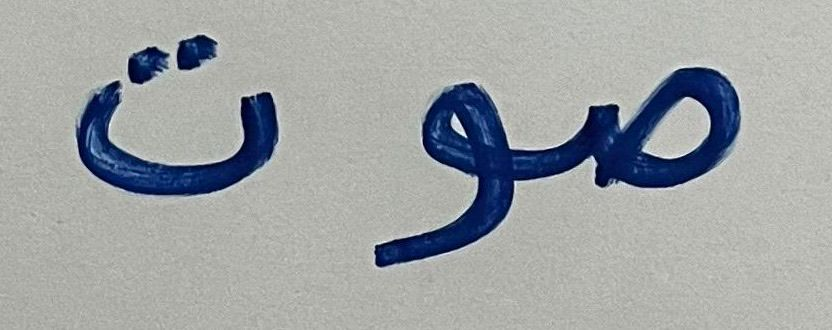sad: (546, 22, 778, 238)
teh: (52, 16, 316, 252)
waw: (329, 10, 538, 290)
